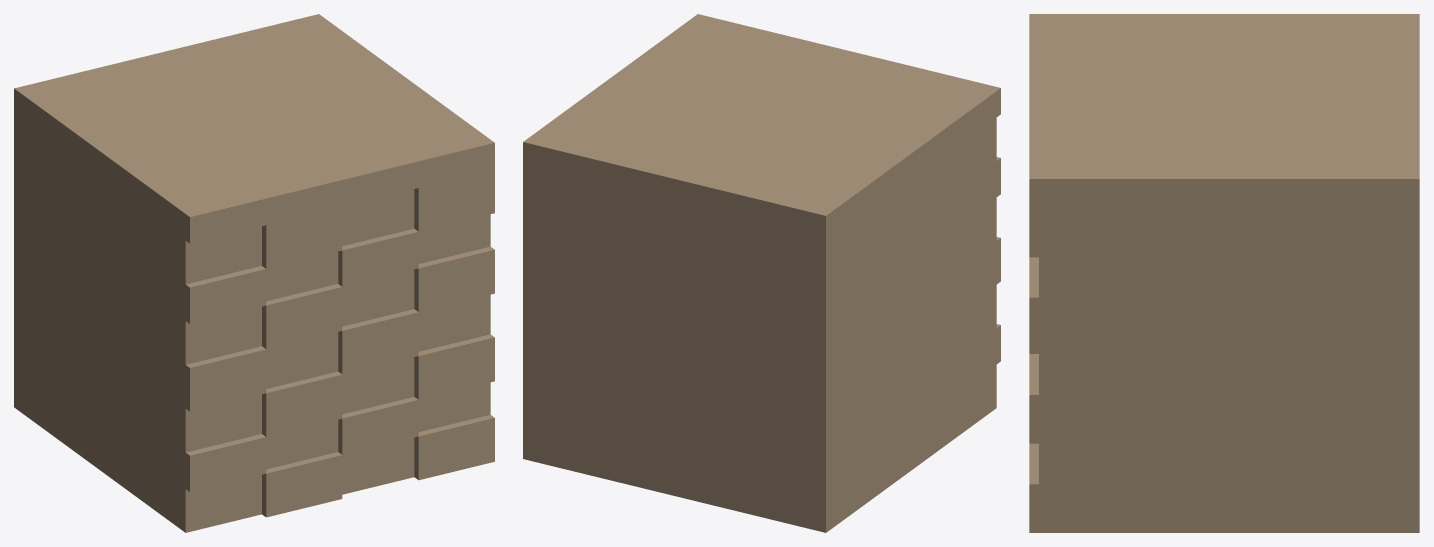
Rendered from outerWall_5.4..fbx.
The picture shows the model from 3 angles, left to right: view 1: azimuth 30°, elevation 25°; view 2: azimuth 150°, elevation 25°; view 3: azimuth 270°, elevation 25°; orthographic projection. The views are drawn at different scales.
Visible parts, largest first — view 1: outerWall; view 2: outerWall; view 3: outerWall.
Boxes of the visible parts, left/top/right/bottom form: outerWall: left=14, top=14, right=494, bottom=532; outerWall: left=523, top=14, right=1000, bottom=532; outerWall: left=1029, top=14, right=1419, bottom=532.
Size of the model in its own units: 400 by 400 by 400.
